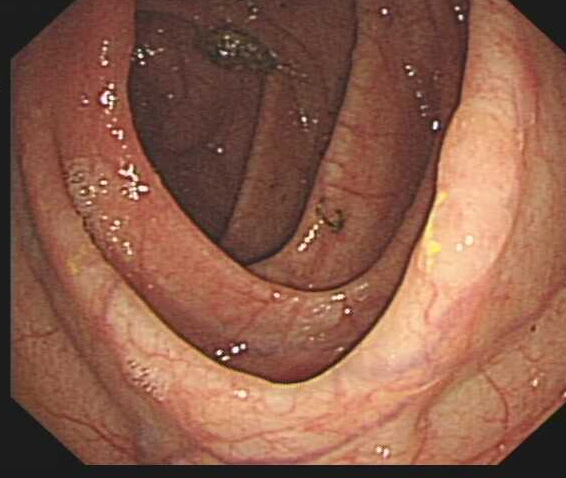others: (417, 97, 525, 287)
